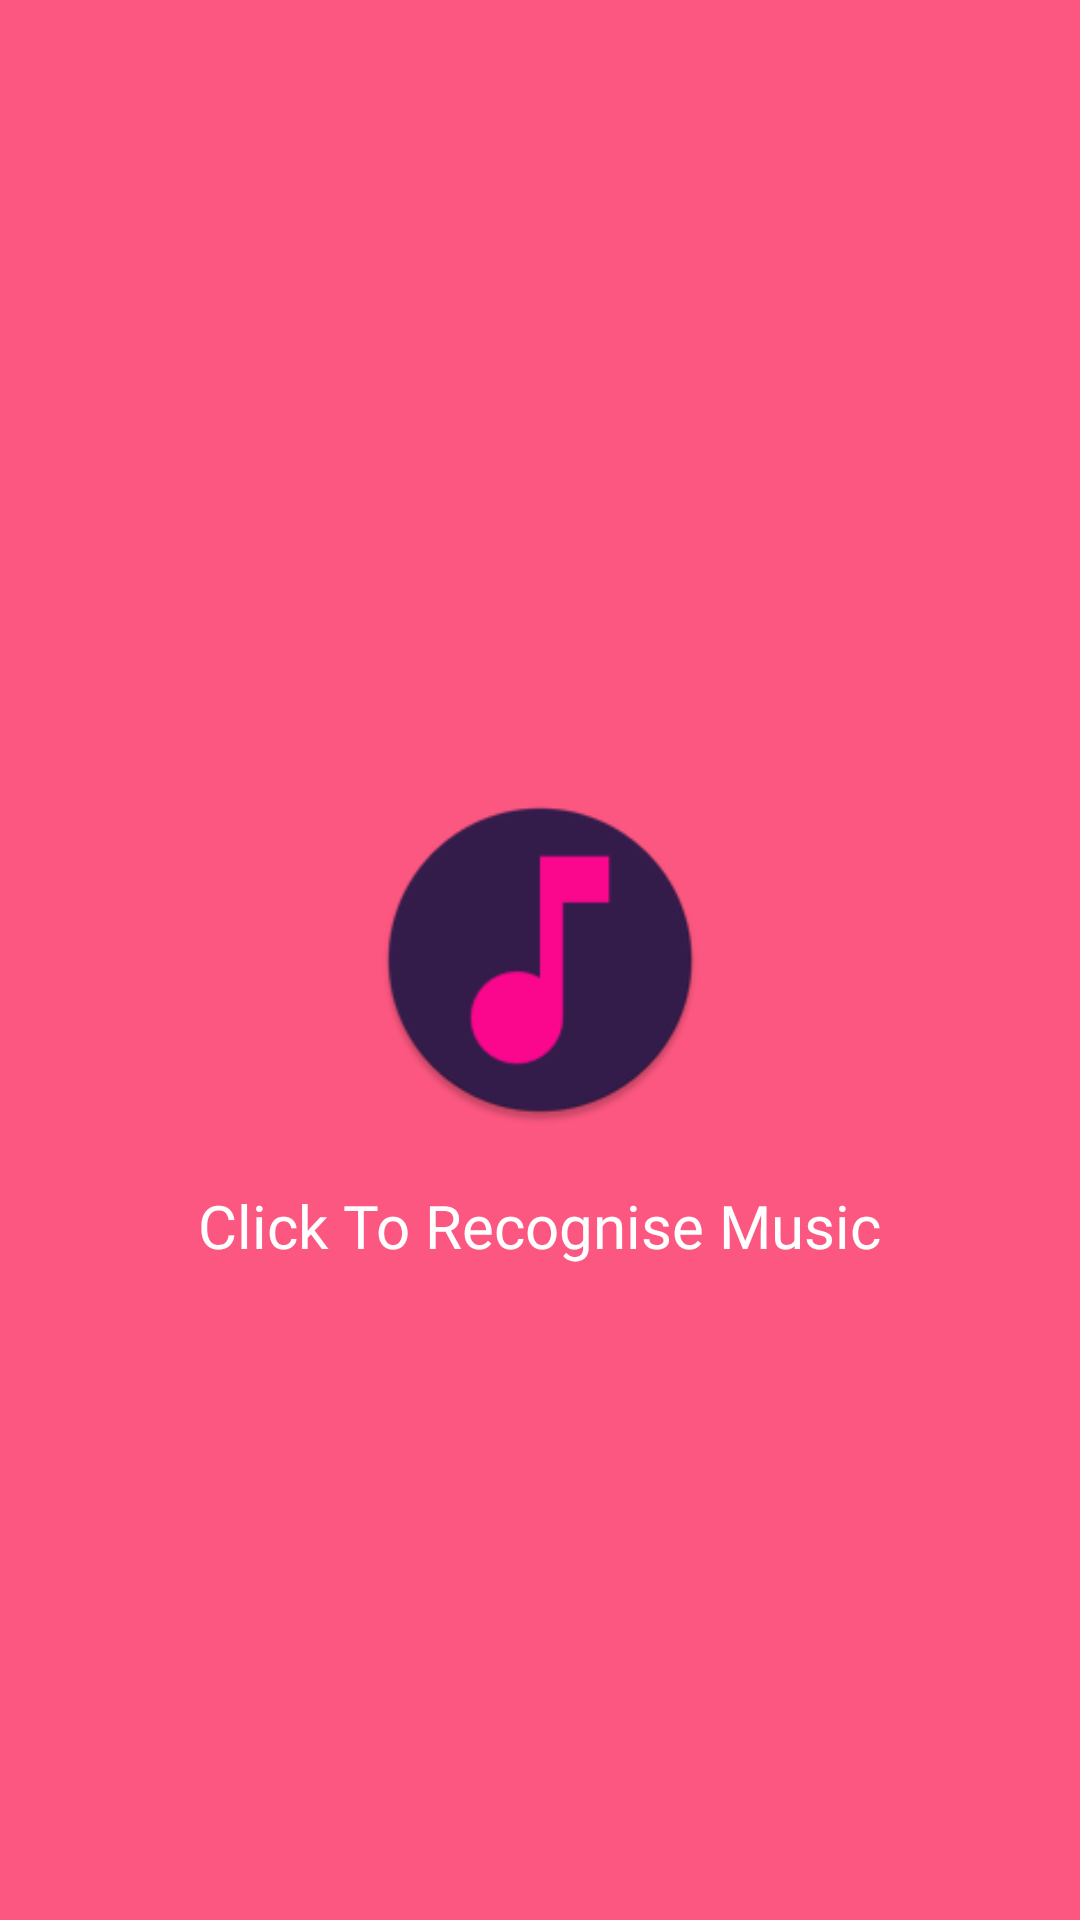

Screen size 1080*1920. Icon name, then its center in pixels as (x=x, y=y):
music note: (x=540, y=963)
